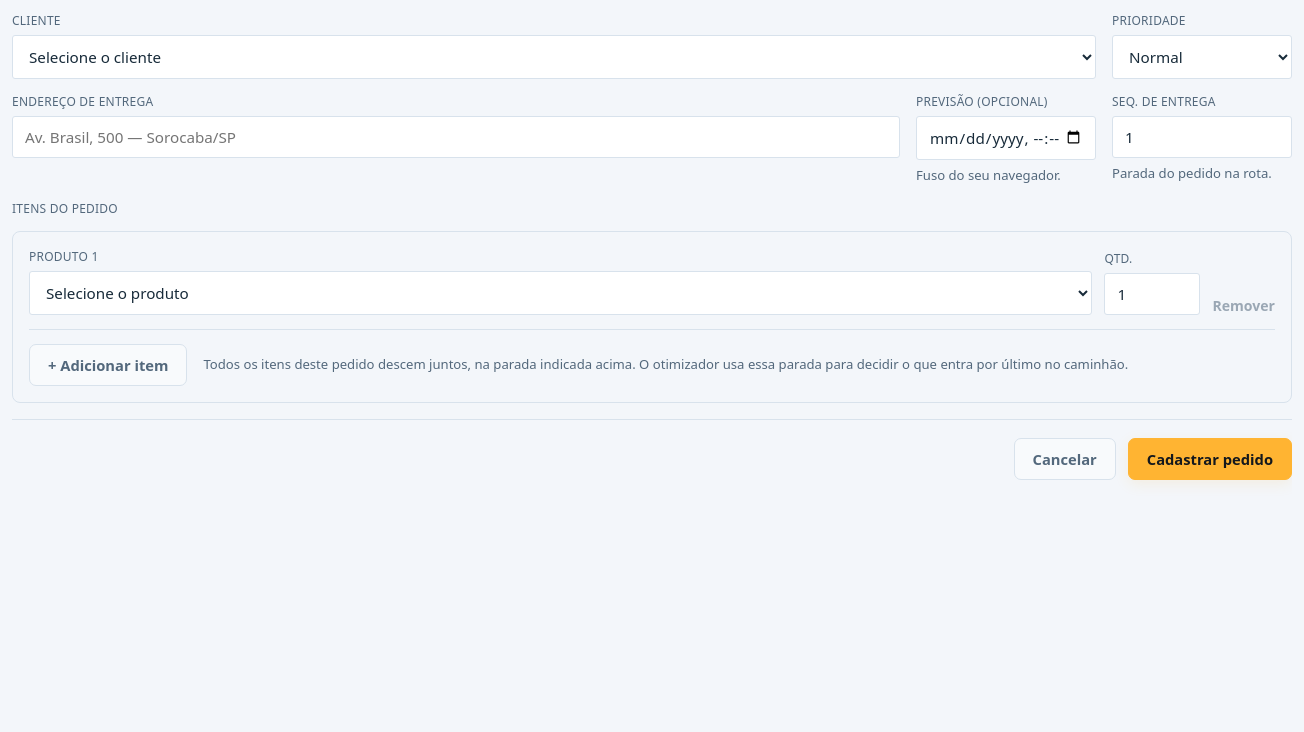
it: OrderForm › adiciona e remove itens, liberando o botão quando há mais de um
Click the button "+ Adicionar item". click: (108, 365)
box: [29, 344, 188, 386]
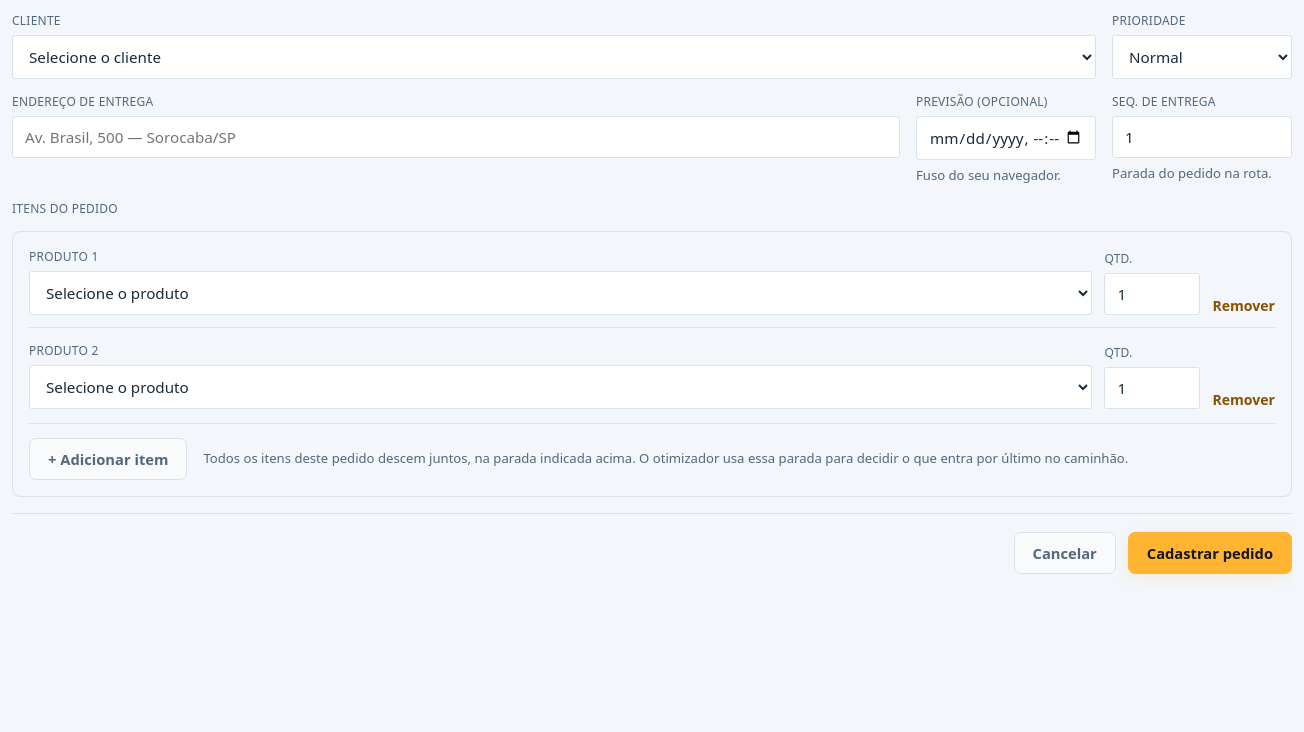
Now the dropdown labelled "PRODUTO 2" is shown, box [29, 365, 1092, 409]
Now the 1st button "Remover" is enabled, box [1212, 296, 1275, 315]
Click the 2nd button "Remover". click: (1244, 399)
box: [1212, 390, 1275, 409]
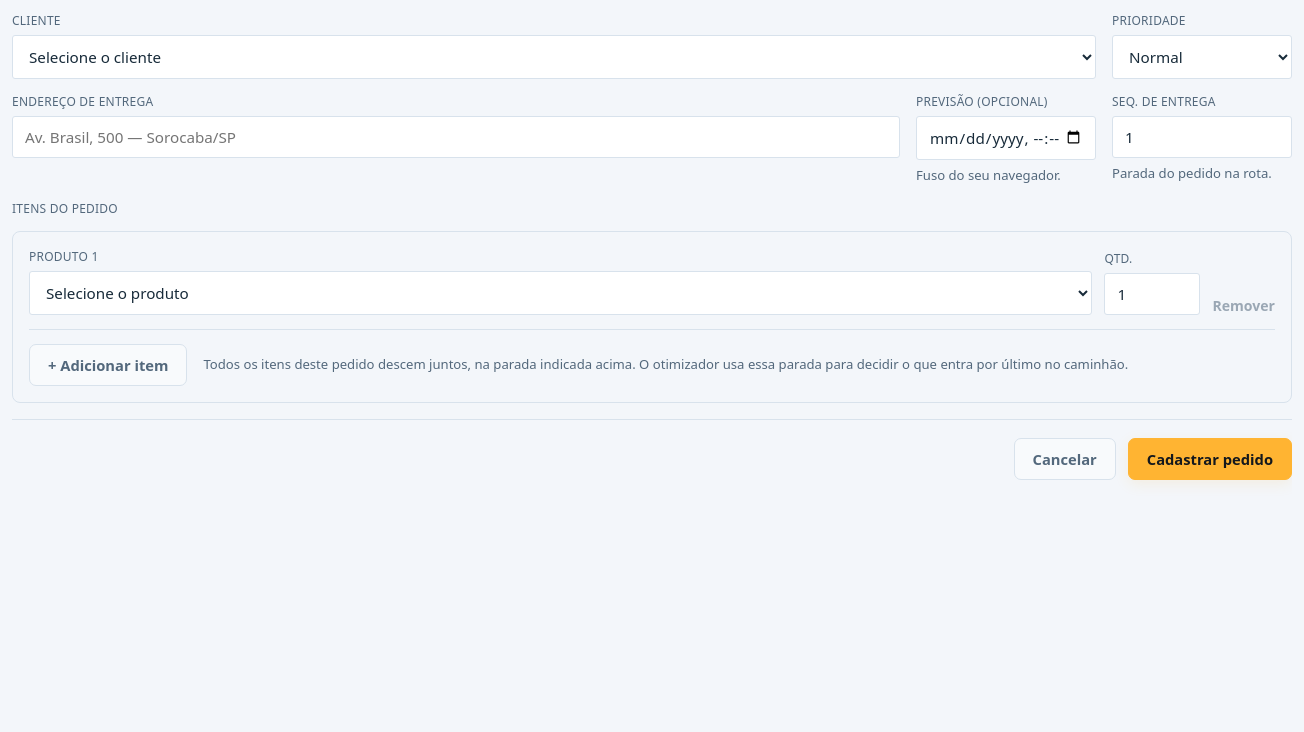
Now the label labelled "PRODUTO 2" is gone
